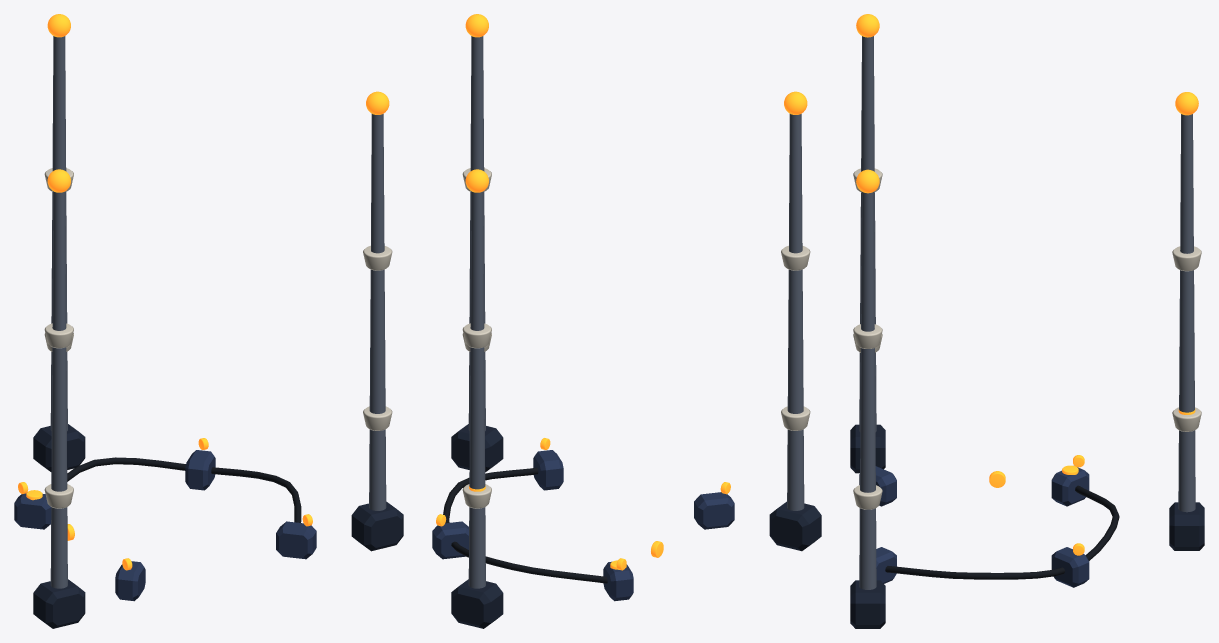
File: tower_overclock_network_s6.glb
3 views of the same model, side by side, from view 1: azimuth 30°, elevation 25°; view 2: azimuth 150°, elevation 25°; view 3: azimuth 270°, elevation 25° (orthographic).
Parts seen in each view (by area): view 1: overclock_antenna1, overclock_antenna2, overclock_antenna0, overclock_antenna_foot2, overclock_antenna_foot1, overclock_relay_cable, overclock_antenna_foot0, overclock_relay2, overclock_relay0, overclock_relay1, overclock_relay3, overclock_antenna_insulator21.9 (+1 smaller); view 2: overclock_antenna2, overclock_antenna0, overclock_antenna1, overclock_antenna_foot0, overclock_antenna_foot2, overclock_relay_cable, overclock_antenna_foot1, overclock_relay3, overclock_relay1, overclock_relay2, overclock_relay0, overclock_antenna_insulator01.9 (+1 smaller); view 3: overclock_antenna1, overclock_antenna0, overclock_antenna2, overclock_relay_cable, overclock_antenna_foot1, overclock_antenna_foot0, overclock_relay1, overclock_relay0, overclock_antenna_foot2, overclock_relay3, overclock_relay2, overclock_antenna_insulator01.9 (+3 smaller).
Part boxes in pixels (x1,y1,x2,y2): overclock_antenna1: [369, 114, 386, 510]; overclock_antenna2: [50, 191, 67, 588]; overclock_antenna0: [50, 36, 67, 430]; overclock_antenna_foot2: [33, 579, 85, 628]; overclock_antenna_foot1: [351, 501, 403, 551]; overclock_relay_cable: [67, 457, 301, 522]; overclock_antenna_foot0: [33, 424, 85, 471]; overclock_relay2: [276, 521, 316, 559]; overclock_relay0: [14, 493, 51, 529]; overclock_relay1: [185, 450, 215, 490]; overclock_relay3: [115, 561, 145, 601]; overclock_antenna_insulator21.9: [44, 323, 73, 348]; overclock_antenna2: [787, 114, 804, 510]; overclock_antenna0: [468, 191, 485, 588]; overclock_antenna1: [468, 36, 485, 430]; overclock_antenna_foot0: [451, 579, 503, 628]; overclock_antenna_foot2: [769, 501, 821, 551]; overclock_relay_cable: [443, 467, 607, 583]; overclock_antenna_foot1: [451, 424, 503, 471]; overclock_relay3: [694, 492, 734, 529]; overclock_relay1: [432, 521, 468, 559]; overclock_relay2: [533, 450, 563, 490]; overclock_relay0: [603, 561, 633, 601]; overclock_antenna_insulator01.9: [462, 323, 491, 348]; overclock_antenna1: [859, 192, 876, 589]; overclock_antenna0: [1178, 114, 1195, 512]; overclock_antenna2: [859, 36, 876, 431]; overclock_relay_cable: [885, 485, 1119, 579]; overclock_antenna_foot1: [850, 580, 885, 628]; overclock_antenna_foot0: [1169, 502, 1204, 550]; overclock_relay1: [1051, 547, 1089, 587]; overclock_relay0: [1051, 467, 1089, 506]; overclock_antenna_foot2: [850, 424, 885, 473]; overclock_relay3: [859, 466, 896, 506]; overclock_relay2: [876, 547, 896, 583]; overclock_antenna_insulator01.9: [1172, 246, 1201, 271].
Bounding box in the file's own units: 1.4 × 1.69 × 1.2.
